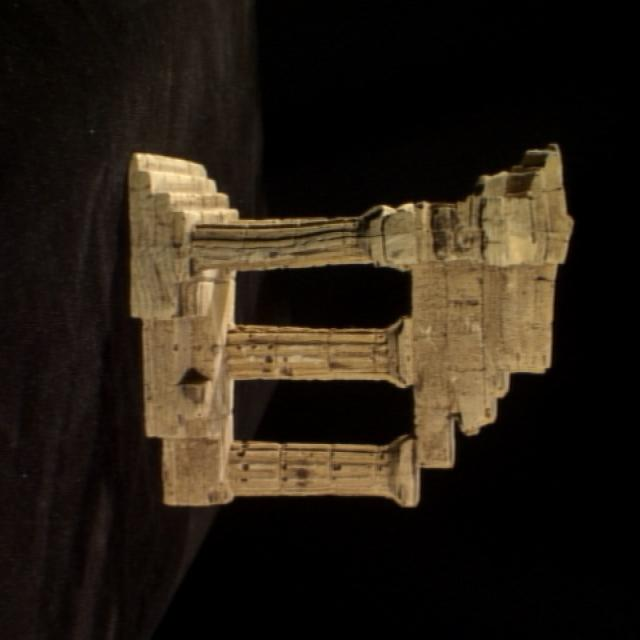Instance-Segmentation: (129, 145, 572, 505)
